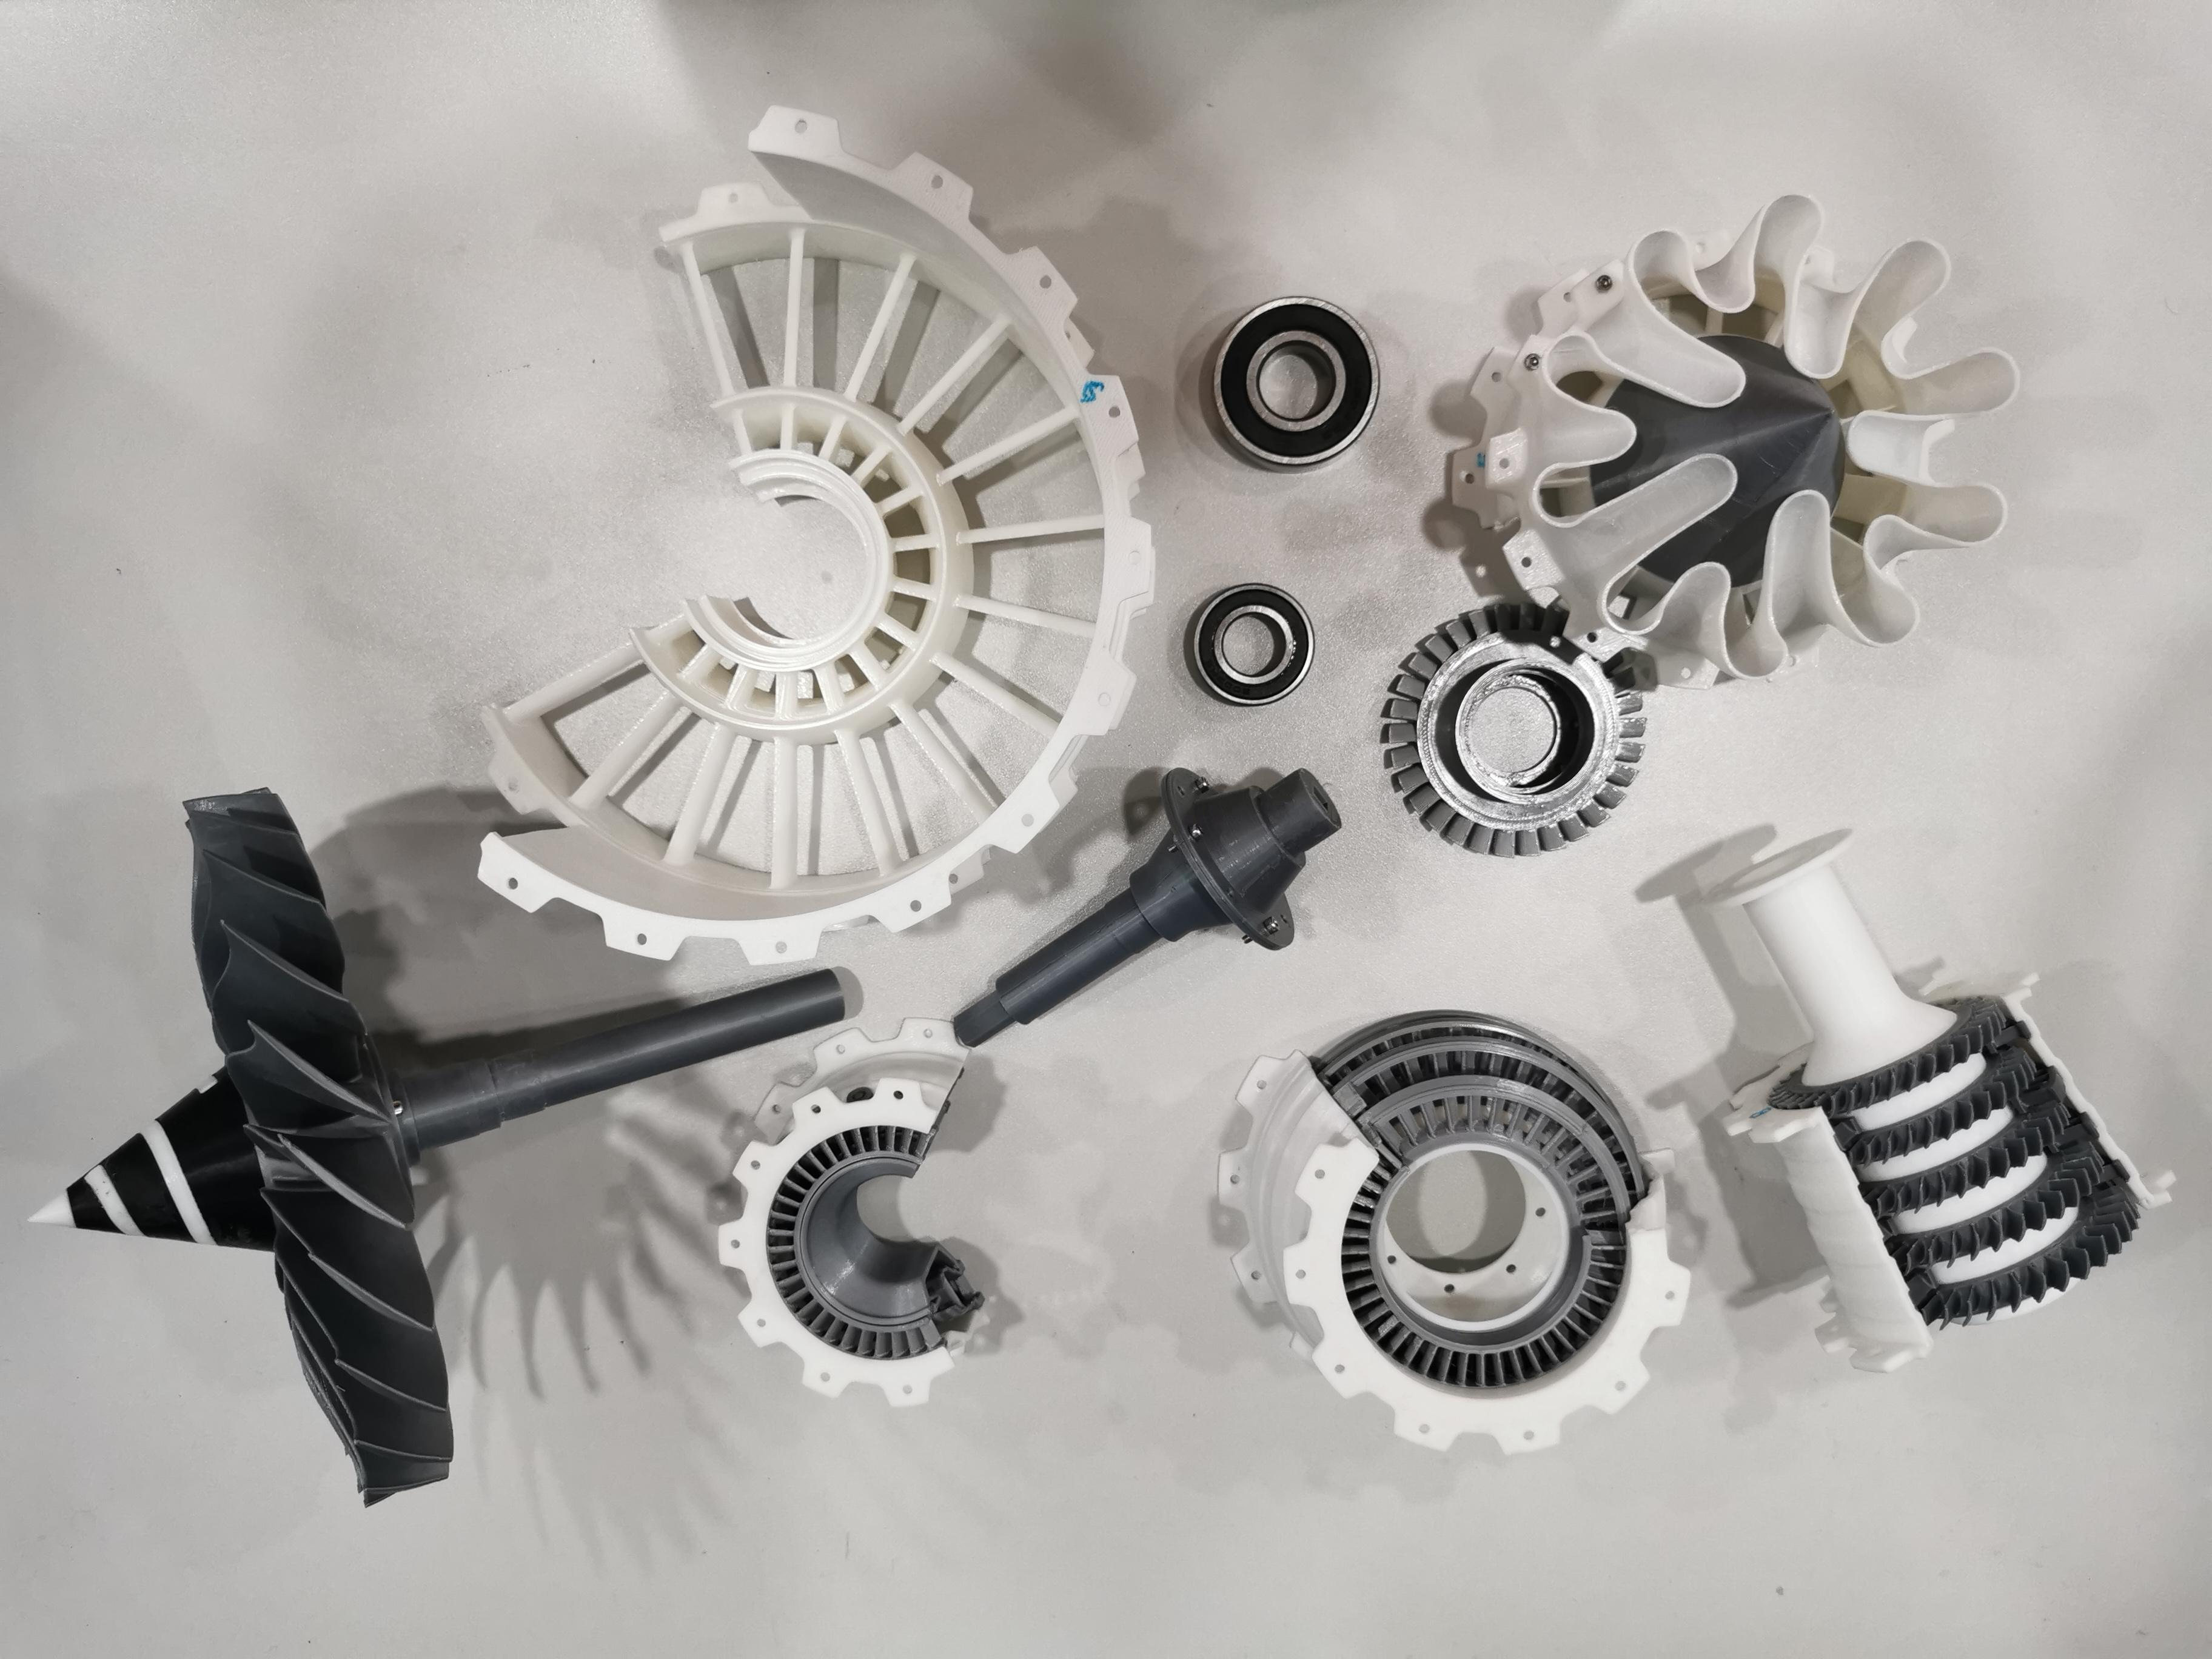Bearing-6003: (1179, 565, 1329, 732)
Bearing-6204: (1191, 282, 1392, 483)
Combustion Section: (705, 1009, 1000, 1415)
Fan Casing and Support: (449, 92, 1169, 972)
Fan and Low Pressure Shaft: (17, 774, 859, 1514)
HPT Section: (1369, 599, 1665, 863)
High Pressure Spool: (1698, 817, 2196, 1384)
LPT Section: (1211, 999, 1696, 1462)
Low Pressure Spool: (942, 756, 1352, 1054)
Nozzle Section: (1433, 181, 2029, 695)
